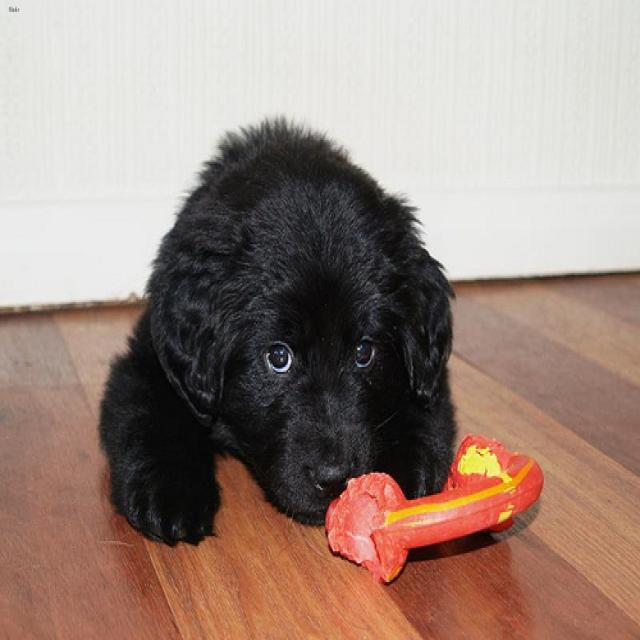dog-newfoundland: (86, 113, 463, 551)
